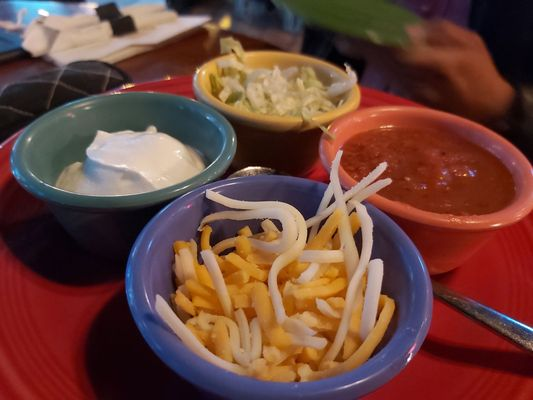sushi: (124, 165, 433, 400), (316, 102, 533, 278), (10, 91, 238, 246), (190, 48, 363, 175), (193, 48, 363, 137)
